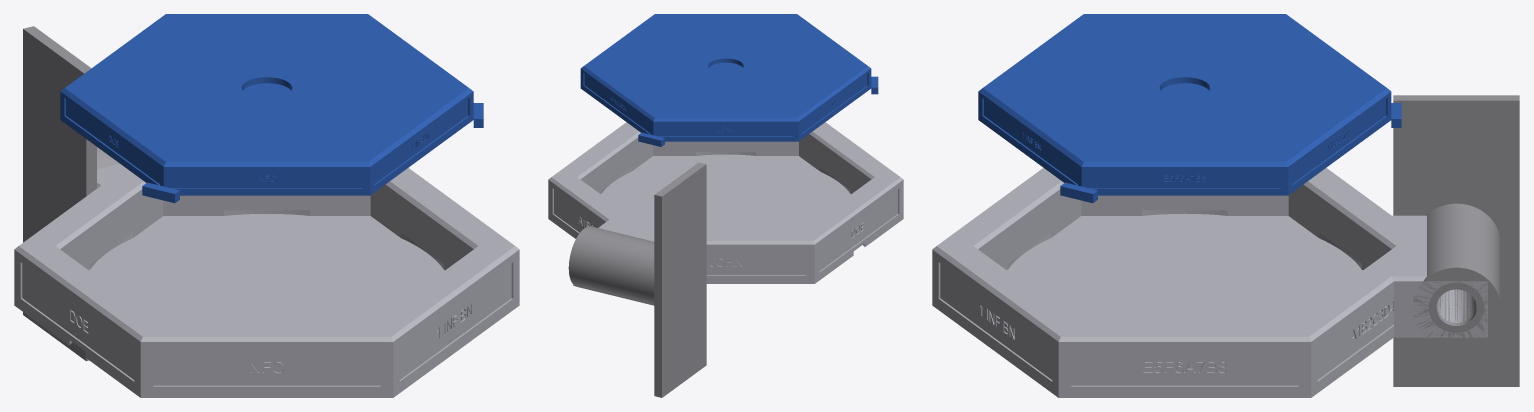
The model's file is exploded.gltf.
3 renders of one model, left to right at view 1: azimuth 30°, elevation 25°; view 2: azimuth 150°, elevation 25°; view 3: azimuth 270°, elevation 25°, orthographic. The views are drawn at different scales.
Size of the model in its own units: 0.0346 by 0.0289 by 0.0465.
